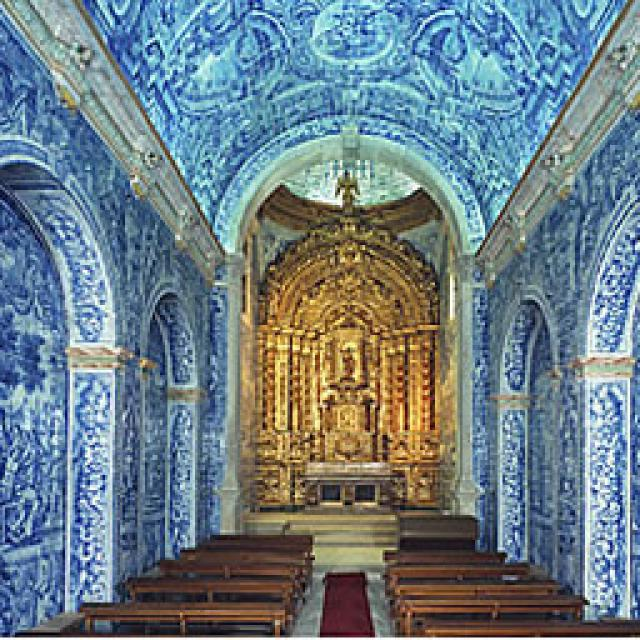altar: (295, 472, 402, 505)
altarpiece: (250, 218, 435, 505)
benchs: (12, 532, 312, 632), (380, 545, 638, 635)
ceiling beam: (72, 0, 636, 252)
rug -partially obscured-: (318, 568, 372, 635)
steps: (238, 505, 472, 568)
vault: (250, 158, 438, 235)
wall clock: (465, 0, 638, 638), (218, 210, 472, 532)
